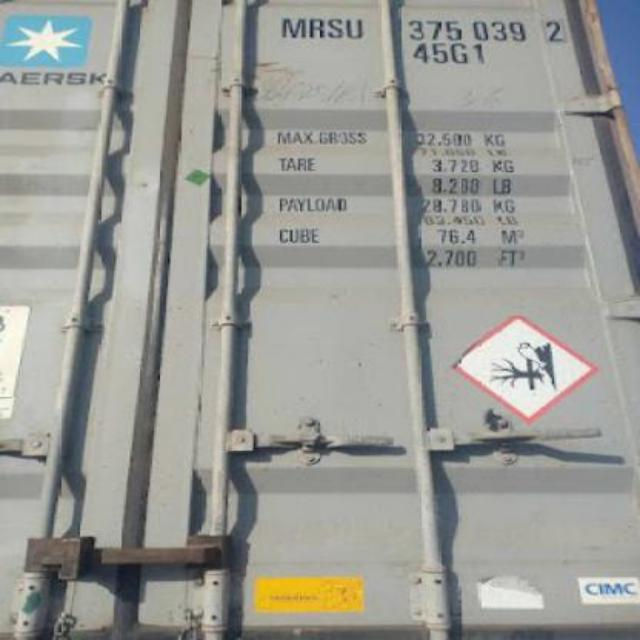0: (468, 13, 489, 43)
2: (544, 17, 566, 41)
3: (404, 13, 424, 42), (490, 12, 508, 44)
5: (444, 13, 462, 43)
7: (424, 13, 444, 43)
9: (506, 8, 526, 48)
M: (278, 13, 304, 42)
R: (308, 13, 326, 42)
S: (326, 12, 344, 40)
U: (342, 12, 366, 44)
